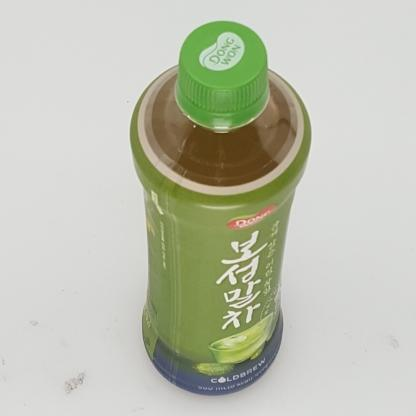------500ML: (130, 21, 311, 396)
